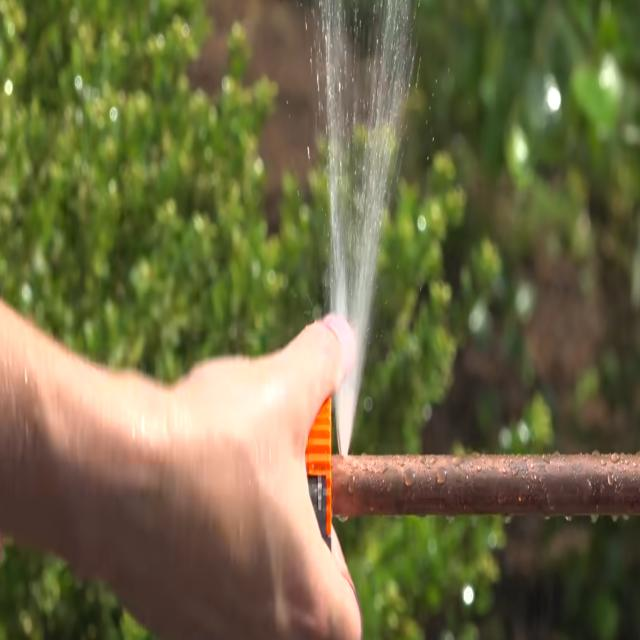leak: (320, 0, 412, 456)
